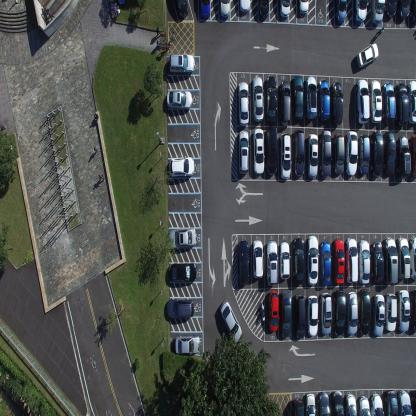car: (220, 299, 242, 343), (384, 236, 399, 285), (306, 234, 319, 286), (356, 77, 370, 125), (356, 41, 379, 70), (370, 240, 385, 284), (370, 130, 384, 177), (265, 125, 278, 175), (396, 135, 411, 178), (167, 227, 196, 249), (383, 128, 396, 176), (319, 129, 332, 177), (252, 127, 265, 175), (292, 236, 305, 284), (345, 236, 358, 284), (345, 130, 358, 177), (333, 289, 346, 336), (265, 74, 277, 124), (168, 262, 198, 282), (291, 74, 304, 120), (166, 89, 192, 112), (332, 238, 345, 284), (167, 297, 194, 319), (369, 80, 382, 125), (396, 82, 409, 127), (358, 239, 371, 284), (252, 74, 264, 122), (293, 129, 305, 177), (279, 132, 291, 180), (359, 288, 371, 336), (169, 155, 194, 178), (317, 78, 330, 122), (168, 53, 194, 75), (278, 79, 290, 126), (280, 290, 292, 337), (294, 292, 306, 339), (382, 82, 395, 125), (332, 132, 345, 175), (397, 289, 410, 332), (397, 236, 410, 279), (305, 74, 317, 120), (237, 80, 249, 126), (237, 129, 249, 175), (266, 240, 278, 286), (320, 240, 332, 286), (346, 291, 358, 335), (174, 334, 200, 354), (320, 292, 332, 335), (238, 240, 249, 286), (307, 133, 318, 178), (358, 134, 370, 175), (332, 81, 343, 125), (385, 293, 397, 332), (268, 290, 279, 332), (307, 294, 318, 336), (373, 294, 384, 336), (252, 239, 263, 280), (370, 0, 386, 25), (280, 241, 290, 281), (397, 389, 412, 415), (384, 389, 398, 415), (408, 80, 416, 125), (408, 134, 416, 179), (316, 390, 330, 415), (331, 389, 344, 415), (369, 393, 384, 415), (409, 235, 416, 280), (354, 0, 368, 22), (334, 0, 347, 23), (358, 394, 372, 415), (344, 393, 357, 415), (410, 289, 416, 334), (291, 396, 305, 415), (305, 392, 316, 415), (176, 0, 188, 20), (219, 0, 231, 19), (258, 0, 270, 19), (279, 0, 291, 19), (386, 0, 397, 19), (399, 0, 410, 19), (200, 0, 210, 20), (239, 0, 250, 15), (298, 0, 309, 15), (410, 389, 416, 415), (410, 0, 416, 23)
